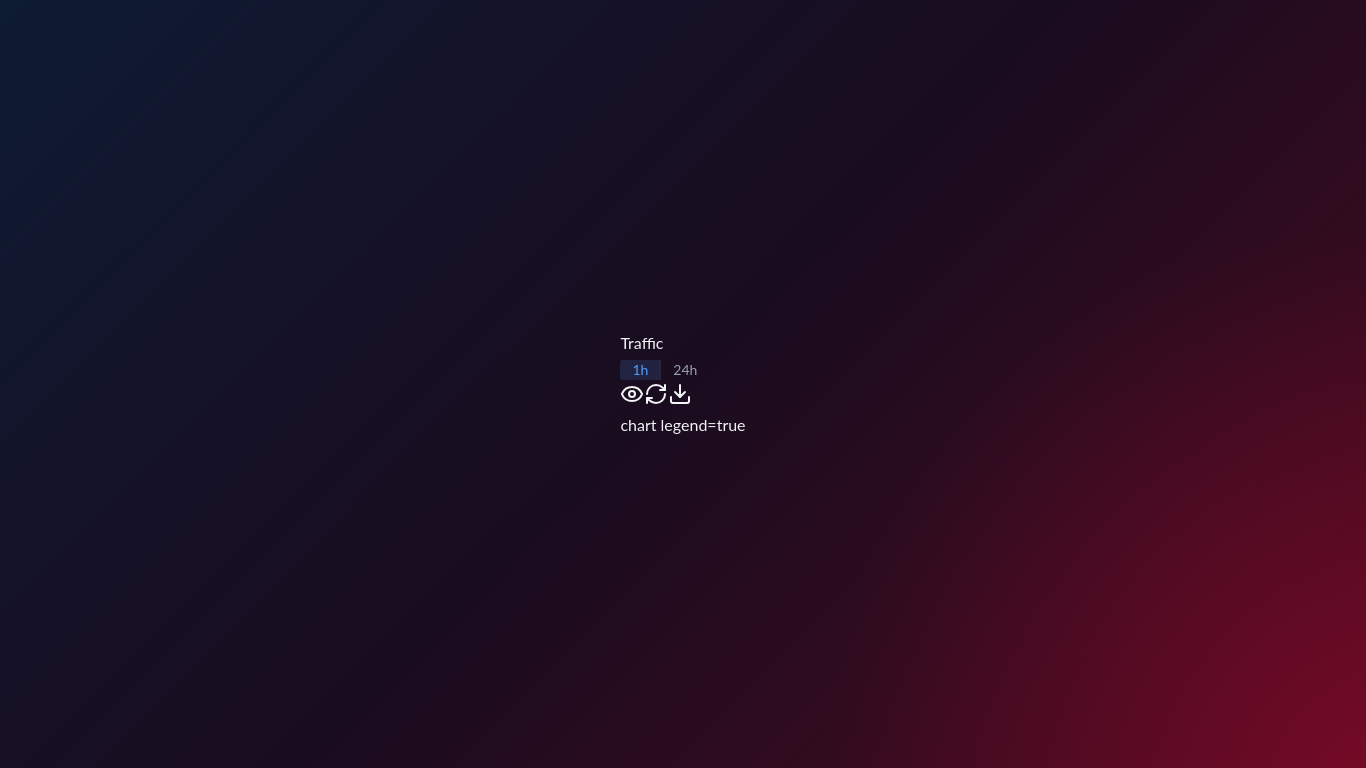
Scenario: charts › ChartCard: range selector, legend toggle, refresh/export and empty/loading/error states
Later steps or results of the test are not shown.
Click the radio button labelled "24h" at (685, 370), box [660,360,710,380]
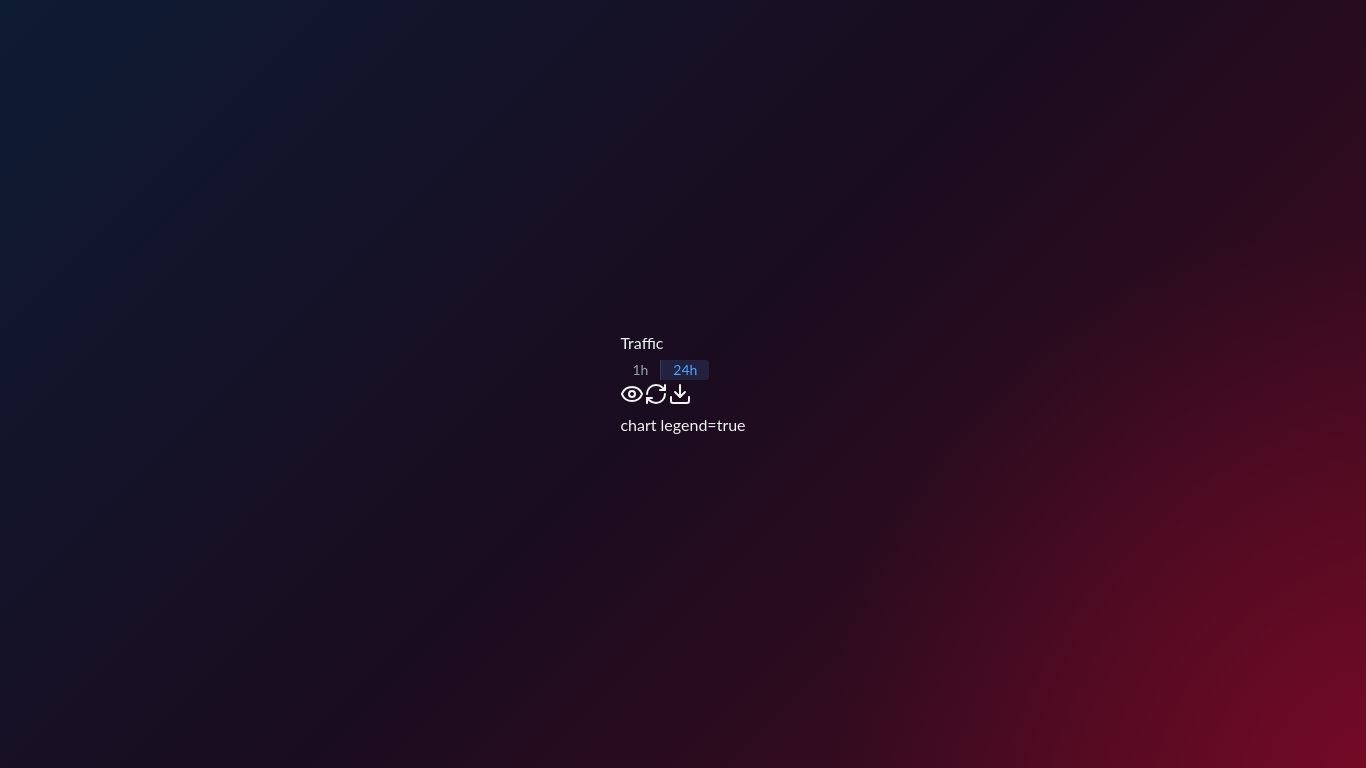
Click the button named "Hide legend" at (632, 394), box [620,382,644,406]
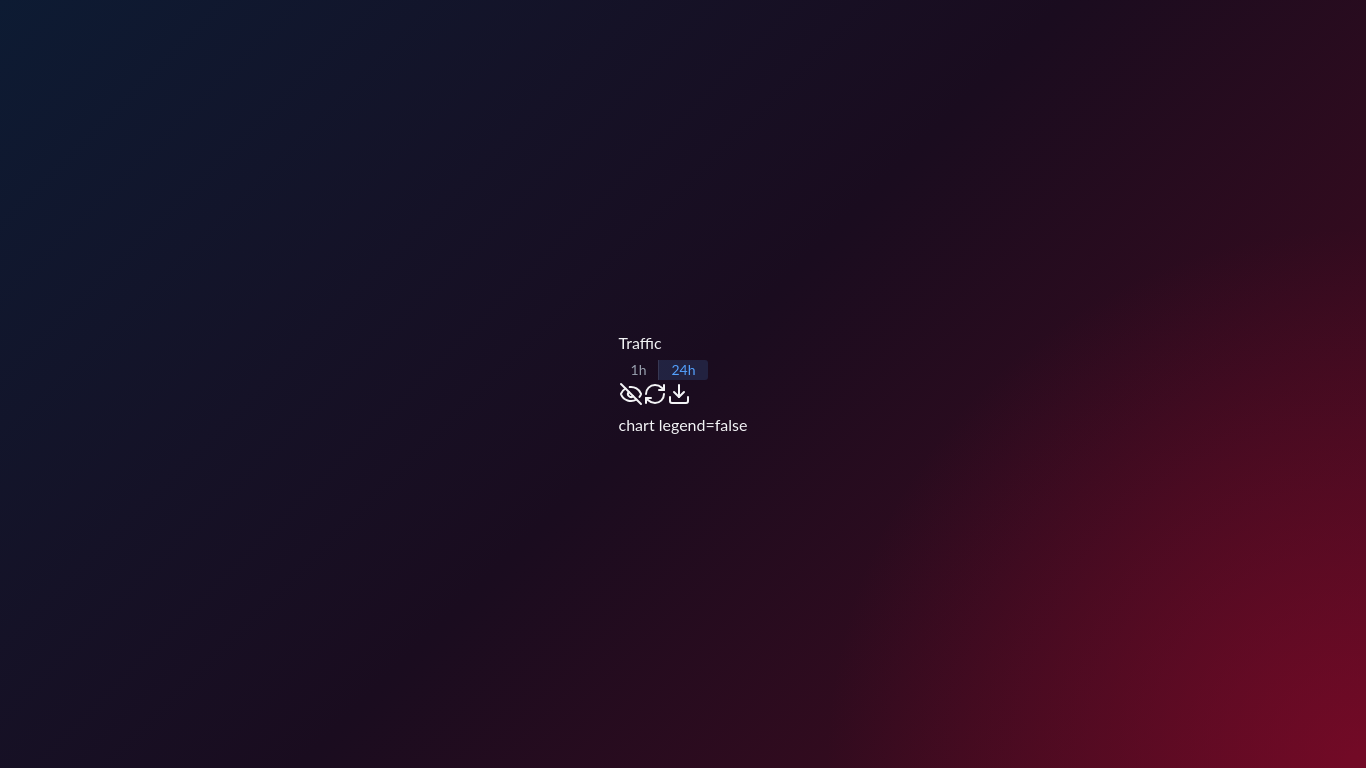
Now the text "chart legend=false" is shown, box [618,415,747,434]
